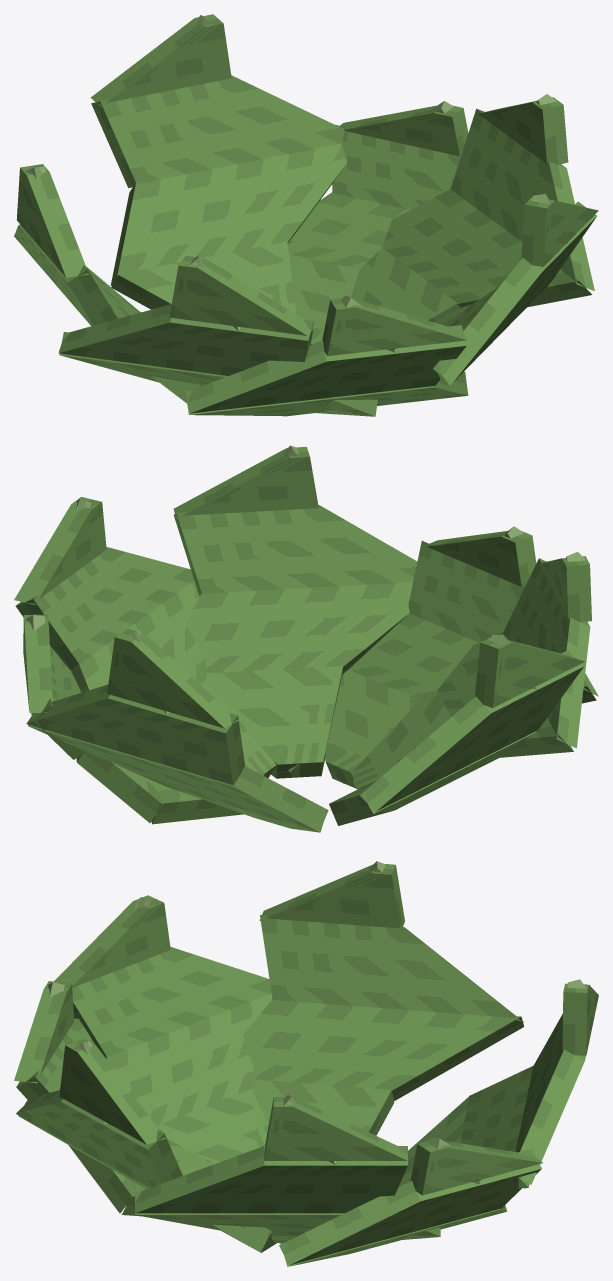
The model's file is f_sea_lettuce.glb.
3 renders of one model, top to bottom at view 1: azimuth 30°, elevation 25°; view 2: azimuth 150°, elevation 25°; view 3: azimuth 270°, elevation 25°, orthographic.
Parts seen in each view (by area): view 1: block_wavy-leaflike-frond (×24); view 2: block_wavy-leaflike-frond (×28); view 3: block_wavy-leaflike-frond (×25).
Part boxes in pixels (x1,y1,x2,y2): block_wavy-leaflike-frond (×24): (14, 14, 598, 416); block_wavy-leaflike-frond (×28): (14, 447, 598, 832); block_wavy-leaflike-frond (×25): (14, 864, 598, 1266).
Size of the model in its own units: 0.4147 by 0.2024 by 0.4133.
1 material, 1 textured.
